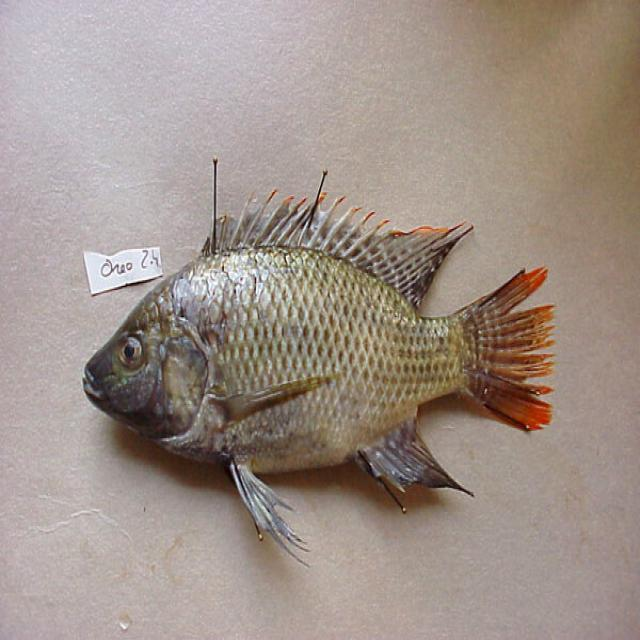ikan: (78, 148, 577, 572)
